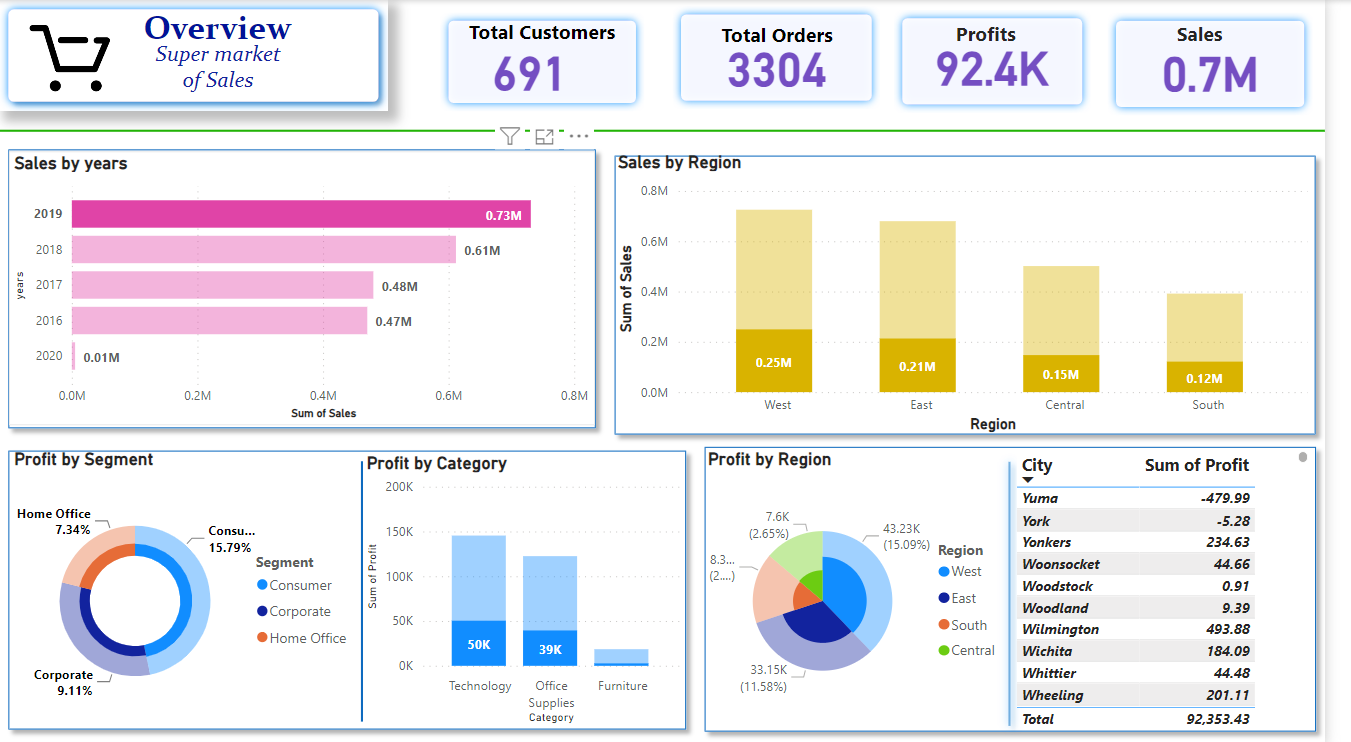

The page's visual inventory and layout, read from the dashboard file:
{"tool":"powerbi","page":{"name":"Dashboard","canvas":[1280,720],"ordinal":0},"visuals":[{"type":"shape","box":[0,27.7,1279.6,196.6],"z":0},{"type":"shape","box":[0,0,375.1,107.3],"z":1000},{"type":"shape","box":[425.7,12.1,196.6,95.3],"z":2000},{"type":"shape","box":[650.1,6,200.2,98.9],"z":3000},{"type":"shape","box":[1069.7,12.1,197.8,98.9],"z":4000},{"type":"shape","box":[863,9.4,189.3,98.9],"z":5000},{"type":"textbox","box":[1.2,2.4,299.1,49.4],"z":6000},{"type":"textbox","box":[435.4,13.3,177.3,43.4],"z":7000},{"type":"textbox","box":[1069.7,14.5,177.3,43.4],"z":8000},{"type":"textbox","box":[863.5,14.5,177.3,43.4],"z":9000},{"type":"textbox","box":[1.2,33.8,300.3,65.1],"z":10000},{"type":"image","box":[19.3,14.5,97.7,86.8],"z":11000},{"type":"shape","box":[0,135.1,584.9,287],"z":12000},{"type":"shape","box":[585.3,140.9,694.7,287],"z":13000},{"type":"shape","box":[0,425.7,671.8,287],"z":14000},{"type":"shape","box":[671.8,422.1,607.8,293.1],"z":15000},{"type":"shape","box":[824.9,436.6,300.3,272.6],"z":16000},{"type":"card","fields":{"Values":["Supersore Analysis.Total Customers"]},"box":[435.4,38.6,153.2,55.5],"z":17000},{"type":"textbox","box":[661.8,15.4,177.3,37.4],"z":18000},{"type":"card","fields":{"Values":["Supersore Analysis.Total Order"]},"box":[662.1,35,177.3,55.5],"z":19000},{"type":"card","fields":{"Values":["Supersore Analysis.Profit"]},"box":[885.2,33.8,144.7,55.5],"z":20000},{"type":"card","fields":{"Values":["Supersore Analysis.Total Sales"]},"box":[1090.3,38.6,156.8,55.5],"z":21000},{"type":"clusteredBarChart","title":"Sales by years","fields":{"Category":["Orders.years"],"Y":["Sum(Orders.Sales)"]},"box":[9.6,145.9,565.6,264.1],"z":22000},{"type":"pieChart","title":"Profit by Region","fields":{"Category":["Orders.Region"],"Y":["Sum(Orders.Profit)"]},"box":[679,433,296.7,275],"z":23000},{"type":"tableEx","fields":{"Values":["Orders.City","Sum(Orders.Profit)"]},"box":[975.7,430.6,291.9,277.4],"z":24000},{"type":"donutChart","title":"Profit by Segment","fields":{"Y":["Sum(Orders.Profit)"],"Series":["Orders.Segment"]},"box":[9.6,433,340.1,275],"z":25000},{"type":"shape","box":[200.2,445,300.3,250.9],"z":26000},{"type":"columnChart","title":"Profit by Category","fields":{"Category":["Orders.Category"],"Y":["Sum(Orders.Profit)"]},"box":[349.7,436.6,312.4,266.5],"z":27000},{"type":"clusteredColumnChart","title":"Sales by Region","fields":{"Y":["Sum(Orders.Sales)"],"Category":["Orders.Region"]},"box":[592.2,145.9,675.4,276.2],"z":28000}]}

Visuals, with their boxes in screenshot pixels (x1, y1, x2, y2), scaled from the page's 1280x720 canvas onto the 1351x742 screenshot:
shape: bbox=(0, 29, 1350, 231)
shape: bbox=(0, 0, 396, 111)
shape: bbox=(449, 12, 657, 111)
shape: bbox=(686, 6, 897, 108)
shape: bbox=(1129, 12, 1338, 114)
shape: bbox=(911, 10, 1111, 112)
textbox: bbox=(1, 2, 317, 53)
textbox: bbox=(460, 14, 647, 58)
textbox: bbox=(1129, 15, 1316, 60)
textbox: bbox=(911, 15, 1099, 60)
textbox: bbox=(1, 35, 318, 102)
image: bbox=(20, 15, 123, 104)
shape: bbox=(0, 139, 617, 435)
shape: bbox=(618, 145, 1350, 441)
shape: bbox=(0, 439, 709, 734)
shape: bbox=(709, 435, 1350, 737)
shape: bbox=(871, 450, 1188, 731)
card - Supersore Analysis.Total Customers: bbox=(460, 40, 621, 97)
textbox: bbox=(699, 16, 886, 54)
card - Supersore Analysis.Total Order: bbox=(699, 36, 886, 93)
card - Supersore Analysis.Profit: bbox=(934, 35, 1087, 92)
card - Supersore Analysis.Total Sales: bbox=(1151, 40, 1316, 97)
"Sales by years" clusteredBarChart: bbox=(10, 150, 607, 423)
"Profit by Region" pieChart: bbox=(717, 446, 1030, 730)
tableEx - Orders.City x Sum(Orders.Profit): bbox=(1030, 444, 1338, 730)
"Profit by Segment" donutChart: bbox=(10, 446, 369, 730)
shape: bbox=(211, 459, 528, 717)
"Profit by Category" columnChart: bbox=(369, 450, 699, 725)
"Sales by Region" clusteredColumnChart: bbox=(625, 150, 1338, 435)
